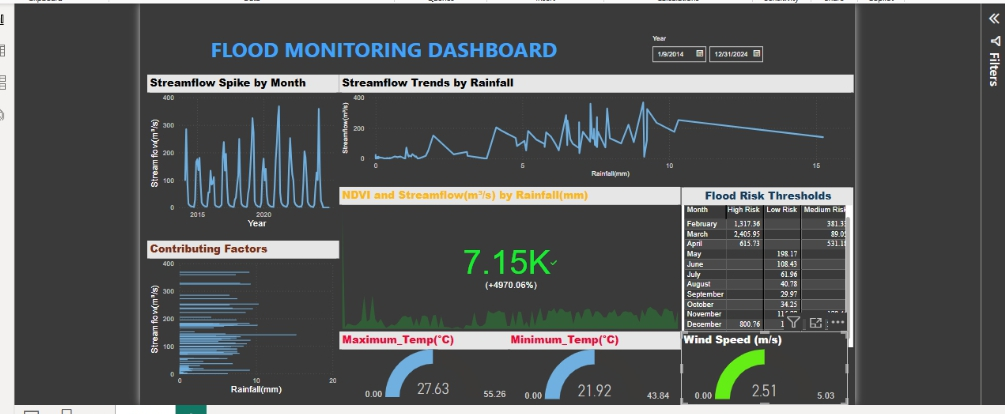

Layout of this report page (visuals, bound fields, positions):
{"tool":"powerbi","page":{"name":"Page 1","canvas":[1280,720],"ordinal":0},"visuals":[{"type":"lineChart","title":"Streamflow Spike by Month ","fields":{"Y":["Sum(Sheet1.Streamflow(m³/s))"],"Category":["Sheet1.Year.Variation.Date Hierarchy.Year","Sheet1.Year.Variation.Date Hierarchy.Quarter","Sheet1.Year.Variation.Date Hierarchy.Month","Sheet1.Year.Variation.Date Hierarchy.Day"]},"box":[13.4,127.7,344.4,280.5],"z":0},{"type":"clusteredBarChart","title":"Contributing Factors","fields":{"Category":["Sheet1.Streamflow(m³/s)"],"Y":["Sum(Sheet1.Rainfall(mm))"]},"box":[13.4,425,344.4,280.5],"z":1000},{"type":"kpi","title":"NDVI and  Streamflow(m³/s) by Rainfall(mm)","fields":{"Indicator":["Sum(Sheet1.NDVI)"],"Goal":["Sum(Sheet1.Streamflow(m³/s))"],"TrendLine":["Sheet1.Rainfall(mm)"]},"box":[357.2,329.1,611.9,259.6],"z":2000},{"type":"gauge","title":"Maximum_Temp(°C) ","fields":{"Y":["Avg(Sheet1.Max_Temp(°C) )"]},"box":[357.8,587.9,344.4,127.7],"z":3000},{"type":"slicer","fields":{"Values":["Sheet1.Year"]},"box":[905.2,50.7,345.4,85.1],"z":4000},{"type":"gauge","title":"         Minimum_Temp(°C)","fields":{"Y":["Avg(Sheet1.Min_Temp(°C))"]},"box":[659,588.5,319.7,131.1],"z":5000},{"type":"lineChart","title":"Streamflow Trends by Rainfall","fields":{"Category":["Sheet1.Rainfall(mm)"],"Y":["Sum(Sheet1.Streamflow(m³/s))"]},"box":[357.8,127.7,922.2,189.8],"z":6000},{"type":"pivotTable","title":"Flood Risk Thresholds","fields":{"Rows":["Sheet1.Year.Variation.Date Hierarchy.Month"],"Columns":["Sheet1.Flood Risk Level"],"Values":["Sum(Sheet1.Streamflow(m³/s))"]},"box":[969.4,328.8,310.4,289.1],"z":7000},{"type":"gauge","fields":{"Y":["Avg(Sheet1.Wind Speed (m/s))"]},"box":[968.9,588.5,300,131.1],"z":8000},{"type":"textbox","box":[81.8,50.7,710.4,65.5],"z":9000}]}

Visuals, with their boxes on the page's 1280x720 design canvas (x1, y1, x2, y2). These are canvas units, not pixel positions in the 1005x414 screenshot, which may show the page scaled, cropped or inside an application window:
"Streamflow Spike by Month " lineChart: region(13, 128, 358, 408)
"Contributing Factors" clusteredBarChart: region(13, 425, 358, 706)
"NDVI and  Streamflow(m³/s) by Rainfall(mm)" kpi: region(357, 329, 969, 589)
"Maximum_Temp(°C) " gauge: region(358, 588, 702, 716)
slicer - Sheet1.Year: region(905, 51, 1251, 136)
"         Minimum_Temp(°C)" gauge: region(659, 588, 979, 720)
"Streamflow Trends by Rainfall" lineChart: region(358, 128, 1280, 318)
"Flood Risk Thresholds" pivotTable: region(969, 329, 1280, 618)
gauge - Avg(Sheet1.Wind Speed (m/s)): region(969, 588, 1269, 720)
textbox: region(82, 51, 792, 116)
